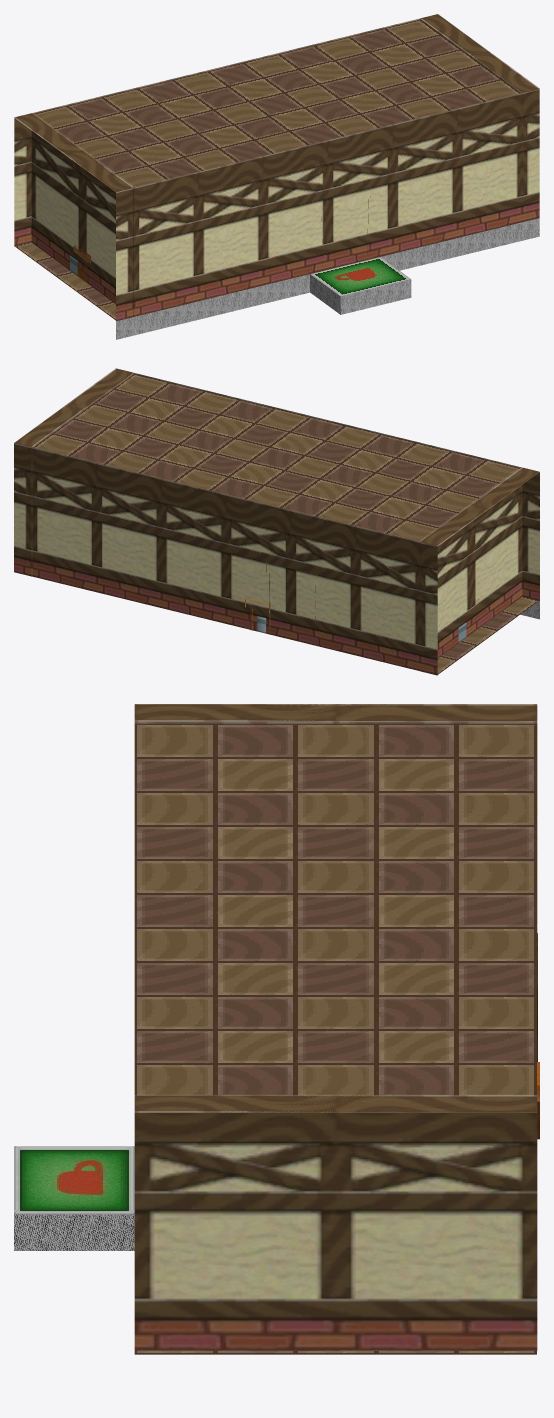
File: TheRoost.fbx
The picture shows the model from 3 angles, top to bottom: view 1: azimuth 30°, elevation 25°; view 2: azimuth 150°, elevation 25°; view 3: azimuth 270°, elevation 25°; orthographic projection. The views are drawn at different scales.
Parts seen in each view (by area): view 1: Front Wall, Unknown 3, Back Wall, Porch, Porch Top, Floor, Decor 1; view 2: Back Wall, Unknown 3, Front Wall, Floor, Decor 1; view 3: Unknown 3, Front Wall, Back Wall, Porch Top, Porch, Floor.
Boxes of the visible parts, x1,y1,x2,y2 form: Front Wall: [14, 14, 539, 316]; Unknown 3: [34, 20, 519, 187]; Back Wall: [14, 14, 539, 321]; Porch: [116, 218, 539, 339]; Porch Top: [310, 257, 410, 296]; Floor: [15, 224, 513, 320]; Decor 1: [70, 244, 90, 282]; Back Wall: [15, 370, 539, 670]; Unknown 3: [34, 374, 519, 541]; Front Wall: [14, 368, 538, 675]; Floor: [437, 597, 538, 674]; Decor 1: [245, 599, 479, 642]; Unknown 3: [134, 724, 536, 1095]; Front Wall: [135, 704, 537, 1350]; Back Wall: [134, 704, 536, 1349]; Porch Top: [14, 1146, 134, 1214]; Porch: [14, 1214, 134, 1250]; Floor: [134, 1350, 536, 1354].
Bounding box in the file's own units: 2364 × 787 × 1287.
11 materials, 11 textured.
